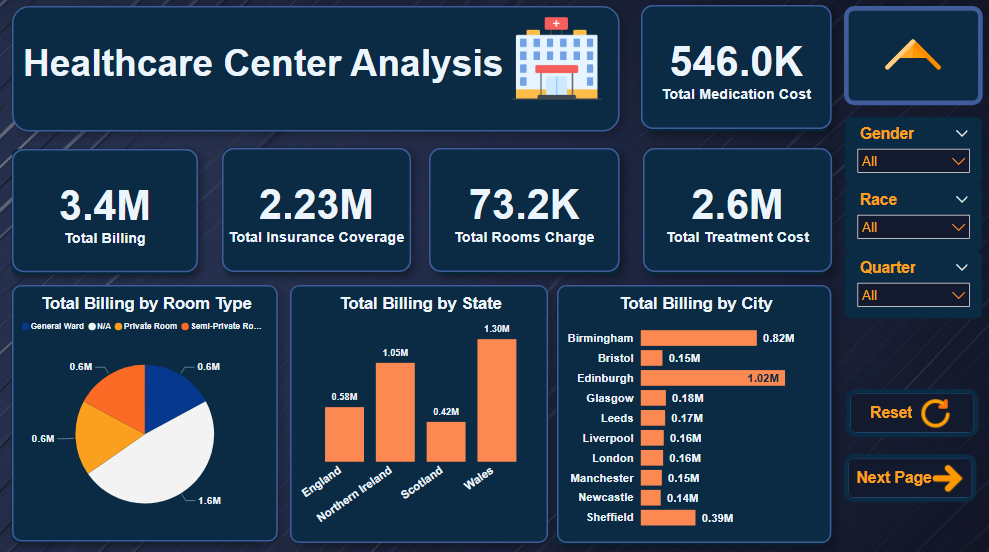

This screenshot's page, from the dashboard's own definition file:
{"tool":"powerbi","page":{"name":"Page 1","canvas":[1280,720],"ordinal":0},"visuals":[{"type":"slicer","fields":{"Values":["patients.Gender"]},"box":[1093.1,155.2,177.4,87],"z":1000},{"type":"slicer","fields":{"Values":["patients.Race"]},"box":[1093.1,239.9,177.4,87.9],"z":2000},{"type":"slicer","fields":{"Values":["visits.Date of Visit.Variation.Date Hierarchy.Quarter"]},"box":[1093.1,327.8,177.4,87],"z":3000},{"type":"image","box":[1091.3,11.3,178.6,127.6],"z":5000},{"type":"actionButton","box":[1092.2,589.4,171.4,62],"z":6000},{"type":"actionButton","box":[1093.9,506.1,171.4,62],"z":7000},{"type":"shape","title":"Healthcare Analysis","box":[18,11.4,783.7,161.6],"z":8000},{"type":"shape","box":[18,195.9,235.1,161.6],"z":9000},{"type":"shape","box":[292.2,195.4,234.8,161.3],"z":10000},{"type":"shape","box":[566.5,195.9,235.1,161.6],"z":11000},{"type":"shape","box":[835.9,195.9,235.1,161.6],"z":12000},{"type":"shape","box":[835.9,11.4,235.1,161.6],"z":13000},{"type":"shape","box":[17.4,389.1,316.6,314],"z":14000},{"type":"shape","box":[720.5,389.1,351.5,316.6],"z":15000},{"type":"card","fields":{"Values":["KPIs.Total Billing"]},"box":[18.4,195.6,239.5,158.7],"z":19000},{"type":"card","fields":{"Values":["KPIs.Total Insurance Coverage"]},"box":[288.6,195.4,243.8,159.6],"z":20000},{"type":"card","fields":{"Values":["KPIs.Total Rooms Charge"]},"box":[555.7,195.4,245.6,159.6],"z":21000},{"type":"card","fields":{"Values":["KPIs.Total Treatment Cost"]},"box":[831.8,195.4,243.8,159.6],"z":22000},{"type":"card","fields":{"Values":["KPIs.Total Medication Cost"]},"box":[830,10.8,245.6,159.6],"z":23000},{"type":"textbox","box":[32.3,25.1,756.5,130.9],"z":24000},{"type":"image","box":[652.5,10.8,136.2,138],"z":25000},{"type":"clusteredBarChart","title":" Total Billing by City ","fields":{"Category":["cities.City"],"Y":["Sum(visits.Total Billing)"]},"box":[721.4,371.3,354.3,333.1],"z":26000},{"type":"shape","box":[393.3,388.4,285.2,314.7],"z":27000},{"type":"clusteredColumnChart","title":" Total Billing by State","fields":{"Category":["cities.State"],"Y":["Sum(visits.Total Billing)"]},"box":[377,372,332.7,332.7],"z":28000},{"type":"pieChart","title":" Total Billing by Room Type","fields":{"Y":["Sum(visits.Total Billing)"],"Category":["visits.Room Type"]},"box":[18,372,342.5,331.1],"z":29000}]}

Visuals, with their boxes in screenshot pixels (x1, y1, x2, y2), scaled from the page's 1280x720 canvas onto the 989x552 screenshot:
slicer - patients.Gender: box(845, 119, 982, 186)
slicer - patients.Race: box(845, 184, 982, 251)
slicer - visits.Date of Visit.Variation.Date Hierarchy.Quarter: box(845, 251, 982, 318)
image: box(843, 9, 981, 106)
actionButton: box(844, 452, 976, 499)
actionButton: box(845, 388, 978, 436)
"Healthcare Analysis" shape: box(14, 9, 619, 133)
shape: box(14, 150, 196, 274)
shape: box(226, 150, 407, 273)
shape: box(438, 150, 619, 274)
shape: box(646, 150, 828, 274)
shape: box(646, 9, 828, 133)
shape: box(13, 298, 258, 539)
shape: box(557, 298, 828, 541)
card - KPIs.Total Billing: box(14, 150, 199, 272)
card - KPIs.Total Insurance Coverage: box(223, 150, 411, 272)
card - KPIs.Total Rooms Charge: box(429, 150, 619, 272)
card - KPIs.Total Treatment Cost: box(643, 150, 831, 272)
card - KPIs.Total Medication Cost: box(641, 8, 831, 131)
textbox: box(25, 19, 609, 120)
image: box(504, 8, 609, 114)
" Total Billing by City " clusteredBarChart: box(557, 285, 831, 540)
shape: box(304, 298, 524, 539)
" Total Billing by State" clusteredColumnChart: box(291, 285, 548, 540)
" Total Billing by Room Type" pieChart: box(14, 285, 279, 539)
